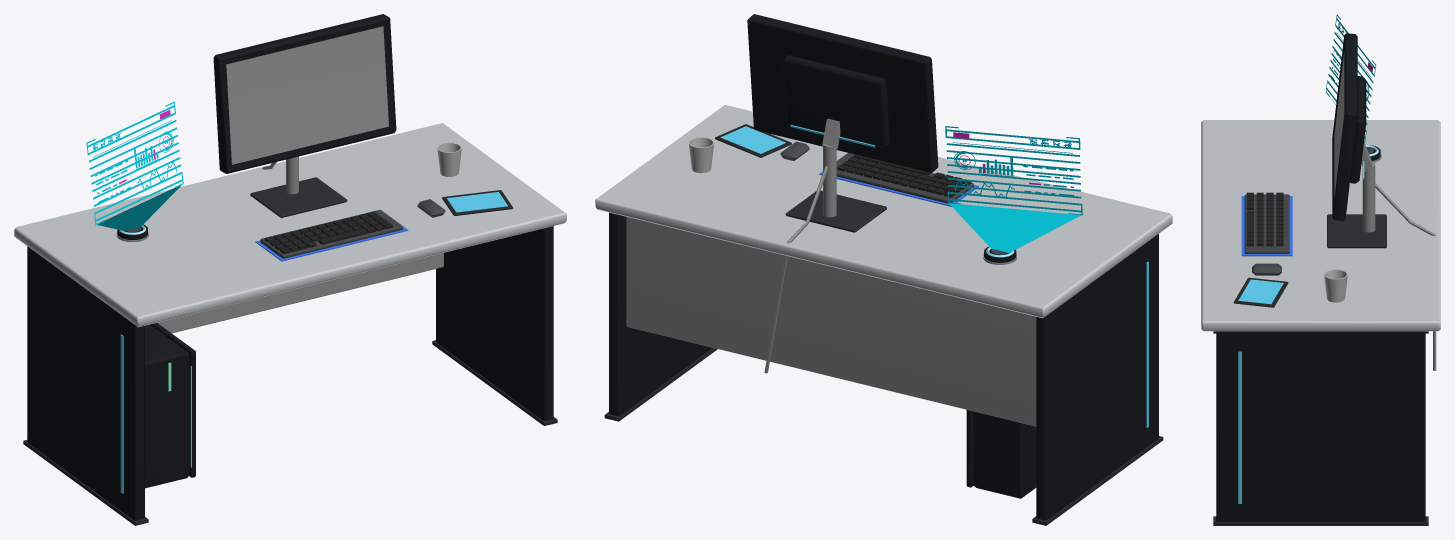
The model's file is Terminal_Desk.fbx.
3 renders of one model, left to right at view 1: azimuth 30°, elevation 25°; view 2: azimuth 150°, elevation 25°; view 3: azimuth 270°, elevation 25°, orthographic. The views are drawn at different scales.
Parts seen in each view (by area): view 1: Terminal_Desk_LOD0; view 2: Terminal_Desk_LOD0; view 3: Terminal_Desk_LOD0.
Boxes of the visible parts, x1,y1,x2,y2 form: Terminal_Desk_LOD0: (14, 14, 566, 525); Terminal_Desk_LOD0: (595, 14, 1172, 525); Terminal_Desk_LOD0: (1201, 14, 1440, 525).
Size of what is drawn, in the model's own units: 1.6 by 1.35 by 0.8.
